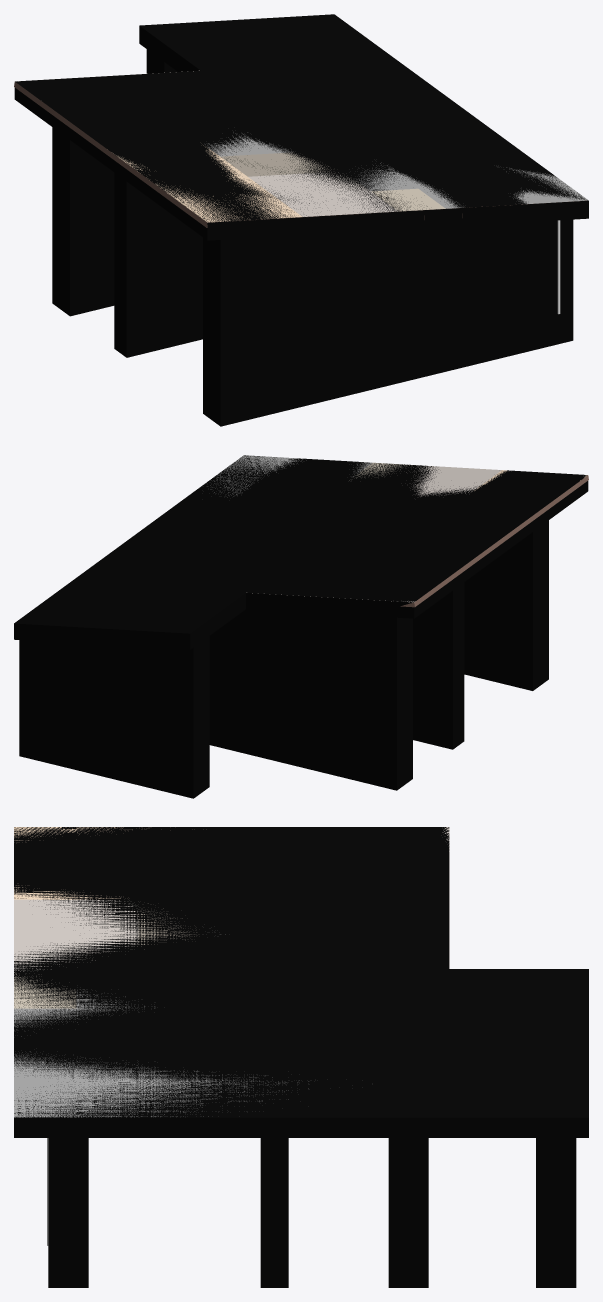
The model's file is leanto_large.dae.
3 views of the same model, one above another, from view 1: azimuth 30°, elevation 25°; view 2: azimuth 150°, elevation 25°; view 3: azimuth 270°, elevation 25° (orthographic). The views are drawn at different scales.
Parts seen in each view (by area): view 1: Colmesh-1, leanto_large_a400, leanto_large_a080; view 2: Colmesh-1, leanto_large_a400, leanto_large_a080, leanto_large_a200; view 3: Colmesh-1, leanto_large_a400.
Part boxes in pixels (bbox=[...]): Colmesh-1: bbox=[14, 14, 588, 426]; leanto_large_a400: bbox=[19, 70, 588, 314]; leanto_large_a080: bbox=[14, 82, 585, 227]; Colmesh-1: bbox=[14, 455, 588, 798]; leanto_large_a400: bbox=[206, 455, 587, 602]; leanto_large_a080: bbox=[400, 475, 588, 607]; leanto_large_a200: bbox=[405, 483, 582, 606]; Colmesh-1: bbox=[14, 827, 588, 1287]; leanto_large_a400: bbox=[14, 827, 449, 1245].
Size of the model in its own units: 12.3 by 14.19 by 6.83.
